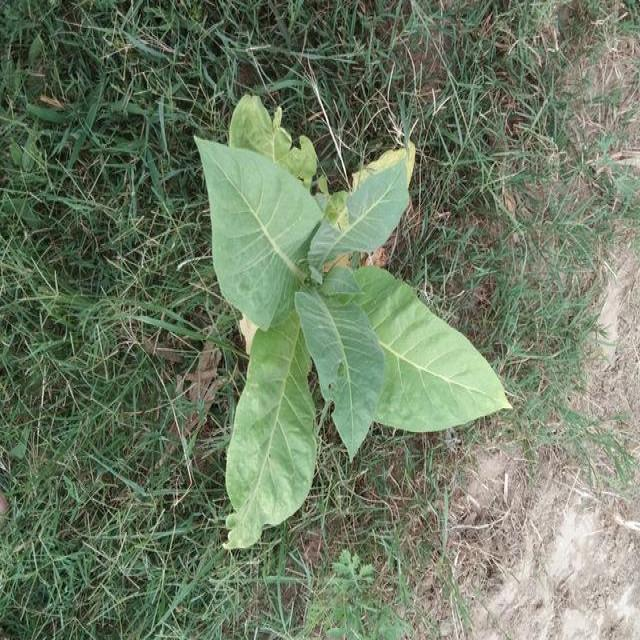crop: (188, 81, 506, 558)
